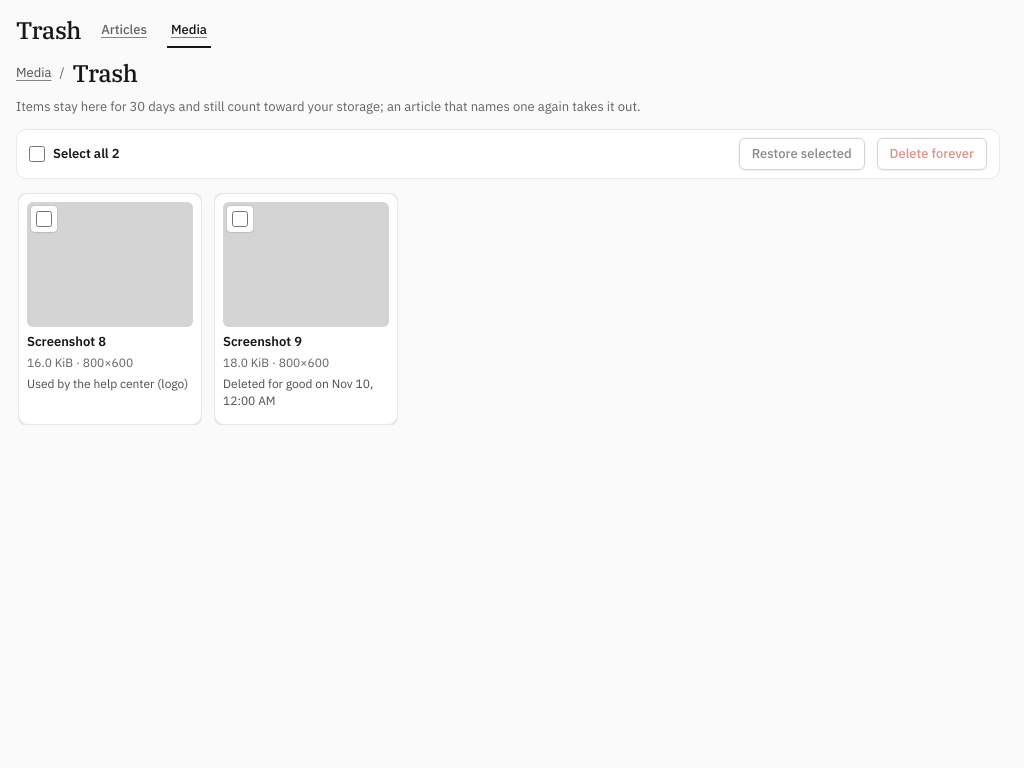
Test case: the trash gives no purge date for an item the purge keeps, and Delete forever says why it stayed
Expected: the label named "Select Screenshot 8" shows "Used by the help center (logo)", [27,376,188,391]
Expected: the label named "Select Screenshot 8" does not show "Deleted for good on", [18,193,202,425]
Click the checkbox named "Select Screenshot 8": click(44, 219) [36,211,52,227]
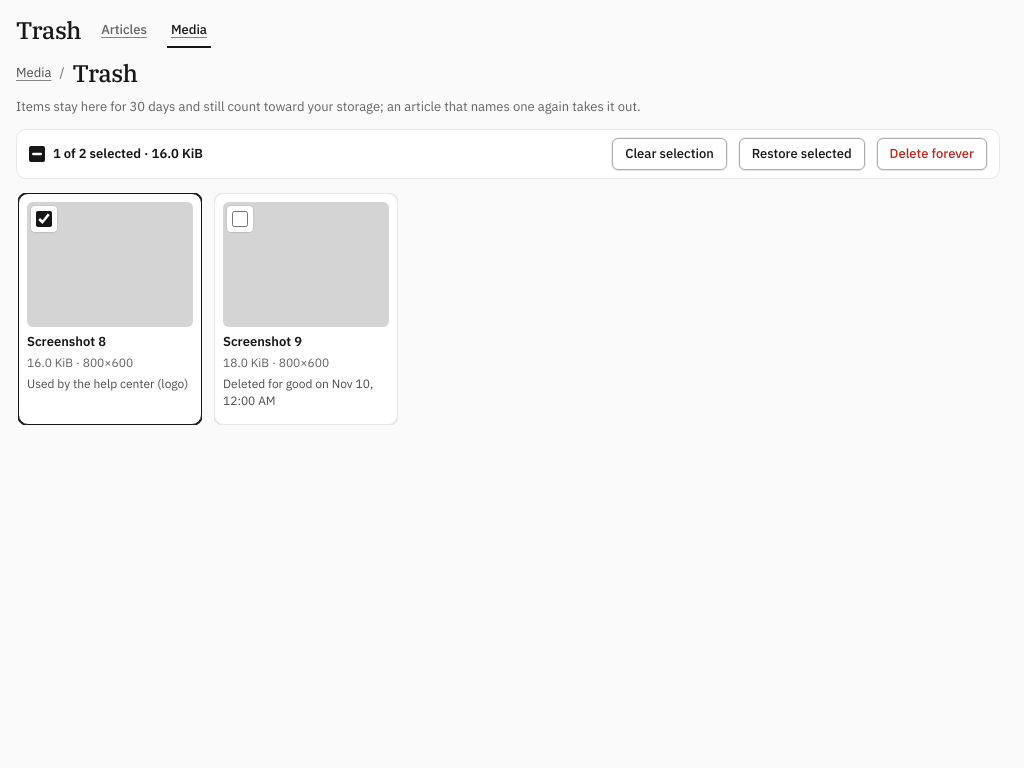
Click the checkbox named "Select Screenshot 9": click(240, 219) [232,211,248,227]
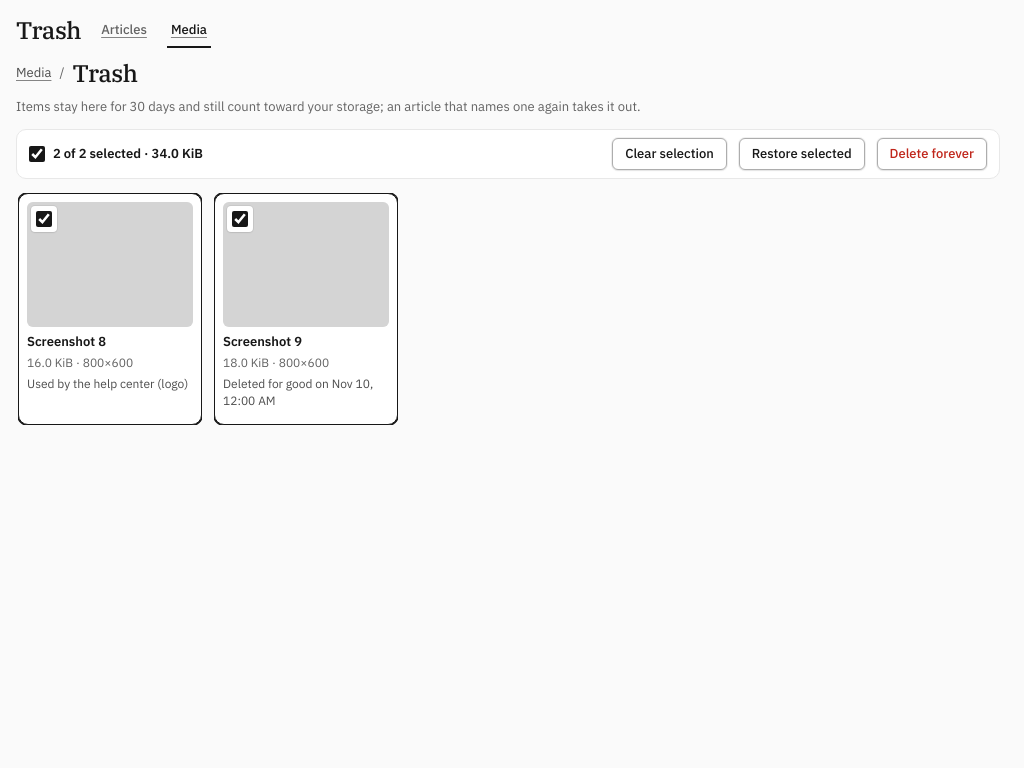
Click the button "Delete forever": click(932, 154) [877,138,987,170]
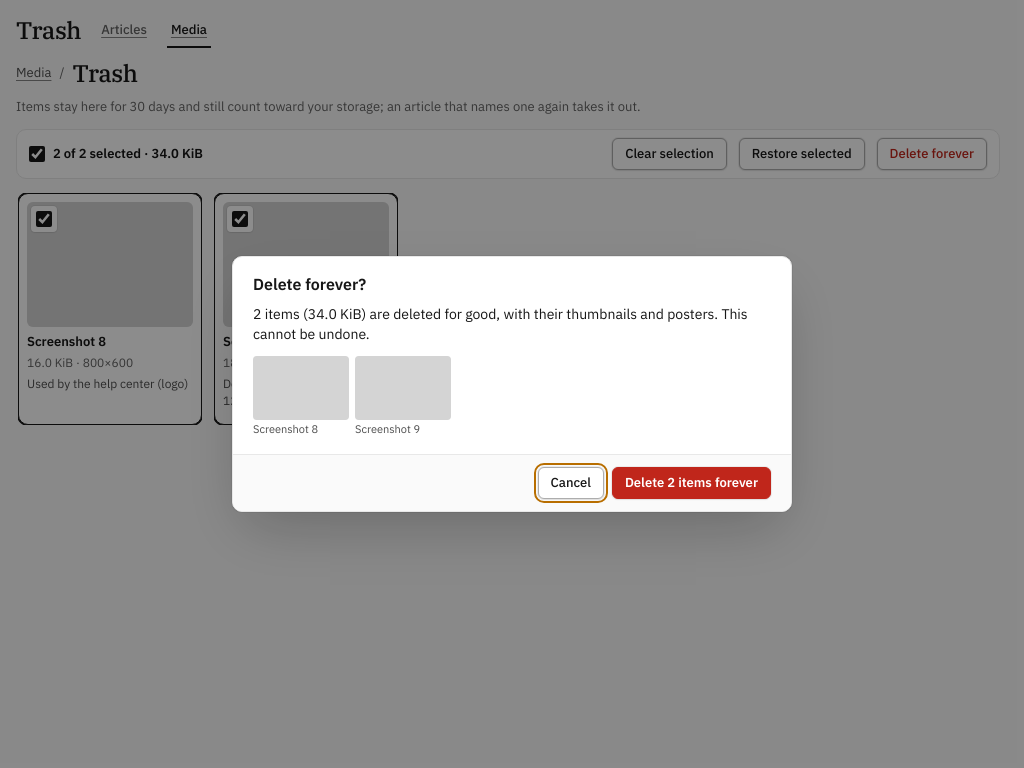
Click the button "Delete 2 items forever": click(691, 483) [612,467,771,499]
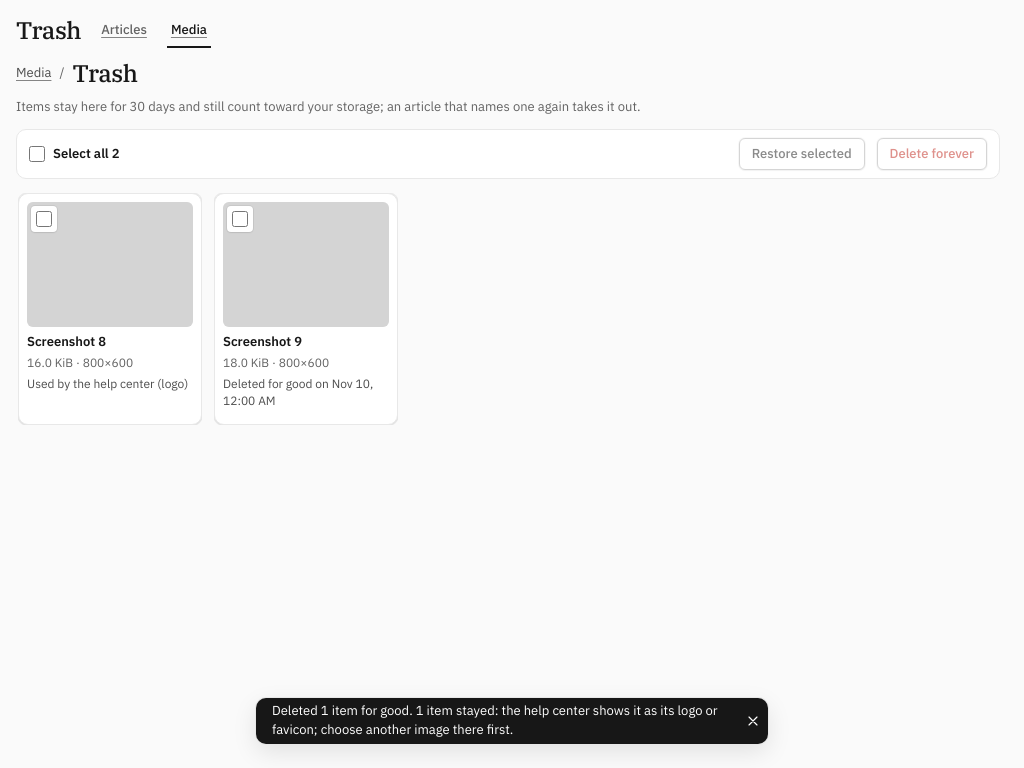
Result: the text "Deleted 1 item for good. 1 item stayed: the help center shows it as its logo or favicon; choose another image there firs" is shown at [272,702,718,738]
